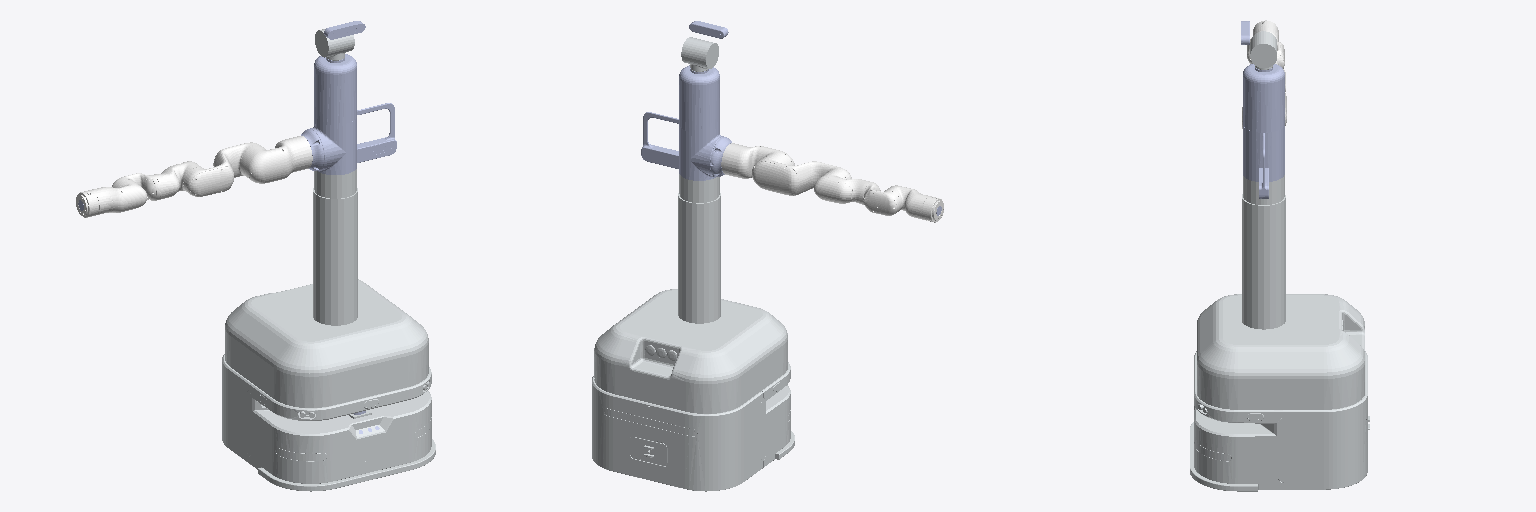
--- Facts derived from the render (not from the file) ---
The picture shows the robot from 3 angles, left to right: view 1: azimuth 30°, elevation 25°; view 2: azimuth 150°, elevation 25°; view 3: azimuth 270°, elevation 25°; orthographic projection.
Robot: JAKA-Lumi-sensors-v3 — 27 links, 26 joints (9 revolute, 10 continuous, 1 prismatic, 6 fixed); root link world; default pose: every joint at zero.
Visible links, largest first — view 1: base_link, link_2, link_a1, link_a2, link_a5, link_1, link_a3, link_3, link_a4; view 2: base_link, link_2, link_a2, link_a1, link_a3, link_3, link_1, link_a4, link_a5; view 3: base_link, link_2, link_3, link_1.
Link boxes in pixels (x1,y1,x2,y2): base_link: (222,188,435,491); link_2: (301,54,396,174); link_a1: (240,136,312,183); link_a2: (183,142,261,196); link_a5: (92,180,147,214); link_1: (314,169,356,198); link_a3: (154,161,201,199); link_3: (315,29,354,60); link_a4: (112,173,160,200); base_link: (592,193,794,491); link_2: (641,65,731,180); link_a2: (752,156,851,195); link_a1: (721,143,794,178); link_a3: (814,170,869,204); link_3: (681,37,718,71); link_1: (679,174,719,202); link_a4: (863,182,900,215); link_a5: (885,185,928,219); base_link: (1190,194,1369,491); link_2: (1243,64,1284,198); link_3: (1250,31,1276,69); link_1: (1243,175,1284,204).
Bounding box of the posed robot: 1.11 × 0.5304 × 1.4 m (x, y, z).
Meshes: 26 distinct files referenced, 22 mesh visuals loaded (22 binary STL); not drawn: 4 (reference not matched to a file when rendering).

URDF robot description (JAKA-Lumi-sensors-v3):
<?xml version="1.0" encoding="utf-8"?>
<!-- This URDF was automatically created by SolidWorks to URDF Exporter! Originally created by Stephen Brawner ([email redacted]) 
     Commit Version: 1.6.0-4-g7f85cfe  Build Version: 1.6.7995.38578
     For more information, please see http://wiki.ros.org/sw_urdf_exporter -->
<robot
  name="JAKA-Lumi-sensors-v3">
  <link name="world" />

  <joint name="world_to_base_joint" type="fixed">
    <parent link="world"/>
    <child link="base_link"/>
    <origin xyz="0 0 0" rpy="0 0 0"/>
  </joint>
  <link
    name="base_link">
    <inertial>
      <origin
        xyz="3.57095658215512E-06 0.0438094594610387 0.0731619735136615"
        rpy="0 0 0" />
      <mass
        value="117.497872021732" />
      <inertia
        ixx="3.00670617451833"
        ixy="-5.23402855344243E-05"
        ixz="0.000153120753143614"
        iyy="3.02761964102687"
        iyz="0.0593585142291048"
        izz="4.01740839133865" />
    </inertial>
    <visual>
      <origin
        xyz="0 0 0"
        rpy="0 0 0" />
      <geometry>
        <mesh
          filename="package://robot_description/meshes/base_link.STL" />
      </geometry>
      <material
        name="">
        <color
          rgba="0.898039215686275 0.917647058823529 0.929411764705882 1" />
      </material>
    </visual>
    <collision>
      <origin
        xyz="0 0 0"
        rpy="0 0 0" />
      <geometry>
        <mesh
          filename="package://robot_description/meshes/base_link.STL" />
      </geometry>
    </collision>
  </link>
  <link
    name="wheel_r">
    <inertial>
      <origin
        xyz="0 -1.38777878078145E-17 -2.77555756156289E-17"
        rpy="0 0 0" />
      <mass
        value="0.941042738950082" />
      <inertia
        ixx="0.00170499901767243"
        ixy="-7.83036536159823E-51"
        ixz="-3.93685896742917E-35"
        iyy="0.00170499901767243"
        iyz="-1.70860751235549E-36"
        izz="0.00311129672944552" />
    </inertial>
    <visual>
      <origin
        xyz="0 0 0"
        rpy="0 0 0" />
      <geometry>
        <mesh
          filename="package://robot_description/meshes/wheel_r.STL" />
      </geometry>
      <material
        name="">
        <color
          rgba="0.792156862745098 0.819607843137255 0.933333333333333 1" />
      </material>
    </visual>
    <collision>
      <origin
        xyz="0 0 0"
        rpy="0 0 0" />
      <geometry>
        <mesh
          filename="package://robot_description/meshes/wheel_r.STL" />
      </geometry>
    </collision>
  </link>
  <joint
    name="w_r"
    type="continuous">
    <origin
      xyz="-0.1793 0.050006 -0.2071"
      rpy="0 1.5708 0" />
    <parent
      link="base_link" />
    <child
      link="wheel_r" />
    <axis
      xyz="0 0 1" />
  </joint>
  <link
    name="wheel_l">
    <inertial>
      <origin
        xyz="5.55111512312578E-17 0 -5.55111512312578E-17"
        rpy="0 0 0" />
      <mass
        value="0.941042738950082" />
      <inertia
        ixx="0.00170499901767243"
        ixy="2.08809742975953E-50"
        ixz="7.9632295469293E-35"
        iyy="0.00170499901767243"
        iyz="-1.70860751235549E-36"
        izz="0.00311129672944551" />
    </inertial>
    <visual>
      <origin
        xyz="0 0 0"
        rpy="0 0 0" />
      <geometry>
        <mesh
          filename="package://robot_description/meshes/wheel_l.STL" />
      </geometry>
      <material
        name="">
        <color
          rgba="0.792156862745098 0.819607843137255 0.933333333333333 1" />
      </material>
    </visual>
    <collision>
      <origin
        xyz="0 0 0"
        rpy="0 0 0" />
      <geometry>
        <mesh
          filename="package://robot_description/meshes/wheel_l.STL" />
      </geometry>
    </collision>
  </link>
  <joint
    name="w_l"
    type="continuous">
    <origin
      xyz="0.1793 0.050006 -0.2071"
      rpy="0 1.5708 0" />
    <parent
      link="base_link" />
    <child
      link="wheel_l" />
    <axis
      xyz="0 0 1" />
  </joint>
  <link
    name="link_1">
    <inertial>
      <origin
        xyz="0 0 -0.151"
        rpy="0 0 0" />
      <mass
        value="14.2347501496821" />
      <inertia
        ixx="0.254522077593032"
        ixy="1.40946576508768E-50"
        ixz="2.26754525837298E-33"
        iyy="0.254522077593032"
        iyz="-3.78389053889462E-34"
        izz="0.0264837526534835" />
    </inertial>
    <visual>
      <origin
        xyz="0 0 0"
        rpy="0 0 0" />
      <geometry>
        <mesh
          filename="package://robot_description/meshes/link_1.STL" />
      </geometry>
      <material
        name="">
        <color
          rgba="0.898039215686275 0.917647058823529 0.929411764705882 1" />
      </material>
    </visual>
    <collision>
      <origin
        xyz="0 0 0"
        rpy="0 0 0" />
      <geometry>
        <mesh
          filename="package://robot_description/meshes/link_1.STL" />
      </geometry>
    </collision>
  </link>
  <joint
    name="l_1"
    type="prismatic">
    <origin
      xyz="0 0 0.565"
      rpy="0 0 0" />
    <parent
      link="base_link" />
    <child
      link="link_1" />
    <axis
      xyz="0 0 1" />
    <limit
      lower="0"
      upper="0.4"
      effort="0"
      velocity="0" />
  </joint>
  <link
    name="link_2">
    <inertial>
      <origin
        xyz="-0.00510085608125199 2.76030308702102E-05 0.154933599644375"
        rpy="0 0 0" />
      <mass
        value="4.72336584565363" />
      <inertia
        ixx="0.0504292282245267"
        ixy="-2.72921337177587E-05"
        ixz="-0.00163934802494906"
        iyy="0.0549230312480384"
        iyz="1.85293969295227E-05"
        izz="0.0134598340945887" />
    </inertial>
    <visual>
      <origin
        xyz="0 0 0"
        rpy="0 0 0" />
      <geometry>
        <mesh
          filename="package://robot_description/meshes/link_2.STL" />
      </geometry>
      <material
        name="">
        <color
          rgba="0.792156862745098 0.819607843137255 0.933333333333333 1" />
      </material>
    </visual>
    <collision>
      <origin
        xyz="0 0 0"
        rpy="0 0 0" />
      <geometry>
        <mesh
          filename="package://robot_description/meshes/link_2.STL" />
      </geometry>
    </collision>
  </link>
  <joint
    name="l_2"
    type="revolute">
    <origin
      xyz="0 0 0.0745"
      rpy="0 0 0" />
    <parent
      link="link_1" />
    <child
      link="link_2" />
    <axis
      xyz="0 0 1" />
    <limit
      lower="-2.7925"
      upper="2.7925"
      effort="0"
      velocity="0" />
  </joint>
  <link
    name="link_3">
    <inertial>
      <origin
        xyz="-0.0025460222142763 1.29838654411296E-08 0.0487080488190528"
        rpy="0 0 0" />
      <mass
        value="1.2679984054123" />
      <inertia
        ixx="0.00113364918039248"
        ixy="-8.90052173790371E-10"
        ixz="1.06284029103091E-05"
        iyy="0.00139294470935827"
        iyz="1.94125318630103E-09"
        izz="0.00124029626232309" />
    </inertial>
    <visual>
      <origin
        xyz="0 0 0"
        rpy="0 0 0" />
      <geometry>
        <mesh
          filename="package://robot_description/meshes/link_3.STL" />
      </geometry>
      <material
        name="">
        <color
          rgba="0.898039215686275 0.917647058823529 0.929411764705882 1" />
      </material>
    </visual>
    <collision>
      <origin
        xyz="0 0 0"
        rpy="0 0 0" />
      <geometry>
        <mesh
          filename="package://robot_description/meshes/link_3.STL" />
      </geometry>
    </collision>
  </link>
  <joint
    name="l_3"
    type="revolute">
    <origin
      xyz="0 0 0.3465"
      rpy="0 0 0" />
    <parent
      link="link_2" />
    <child
      link="link_3" />
    <axis
      xyz="0 0 1" />
    <limit
      lower="-3.1415"
      upper="3.1415"
      effort="0"
      velocity="0" />
  </joint>
  <link
    name="link_4">
    <inertial>
      <origin
        xyz="-0.0356340059910656 0.00952703677544092 0.000354991202713484"
        rpy="0 0 0" />
      <mass
        value="0.508357180113433" />
      <inertia
        ixx="0.00217082376630039"
        ixy="-2.42229896931147E-06"
        ixz="-3.02744570630276E-05"
        iyy="0.00182936367129821"
        iyz="4.21377110079457E-06"
        izz="0.00133450978767258" />
    </inertial>
    <visual>
      <origin
        xyz="0 0 0"
        rpy="0 0 0" />
      <geometry>
        <mesh
          filename="package://robot_description/meshes/link_4.STL" />
      </geometry>
      <material
        name="">
        <color
          rgba="0.792156862745098 0.819607843137255 0.933333333333333 1" />
      </material>
    </visual>
    <collision>
      <origin
        xyz="0 0 0"
        rpy="0 0 0" />
      <geometry>
        <mesh
          filename="package://robot_description/meshes/link_4.STL" />
      </geometry>
    </collision>
  </link>
  <joint
    name="l_4"
    type="revolute">
    <origin
      xyz="0 0 0.052"
      rpy="0 1.5708 0" />
    <parent
      link="link_3" />
    <child
      link="link_4" />
    <axis
      xyz="0 0 1" />
    <limit
      lower="-0.0872"
      upper="0.6108"
      effort="0"
      velocity="0" />
  </joint>
  <link
    name="Camera3_Link">
    <inertial>
      <origin
        xyz="5.68892124458431E-05 -2.63392011503605E-05 0.012942735535695"
        rpy="0 0 0" />
      <mass
        value="0.0875979434243871" />
      <inertia
        ixx="1.06602949918824E-05"
        ixy="-8.54998727243587E-08"
        ixz="-5.78556215603225E-08"
        iyy="0.00010643284507406"
        iyz="9.93797837095681E-09"
        izz="0.000107381008142404" />
    </inertial>
    <visual>
      <origin
        xyz="0 0 0"
        rpy="0 0 0" />
      <geometry>
        <mesh
          filename="package://robot_description/meshes/Camera3_Link.STL" />
      </geometry>
      <material
        name="">
        <color
          rgba="0.792156862745098 0.819607843137255 0.933333333333333 1" />
      </material>
    </visual>
    <collision>
      <origin
        xyz="0 0 0"
        rpy="0 0 0" />
      <geometry>
        <mesh
          filename="package://robot_description/meshes/Camera3_Link.STL" />
      </geometry>
    </collision>
  </link>
  <joint
    name="cm3_l"
    type="fixed">
    <origin
      xyz="-0.0552 -0.0665 -0.001"
      rpy="-1.5708 -1.5708 0" />
    <parent
      link="link_4" />
    <child
      link="Camera3_Link" />
    <axis
      xyz="0 0 0" />
  </joint>
  <link
    name="link_a1">
    <inertial>
      <origin
        xyz="-1.9998511011643E-06 0.0134079971471797 0.0943686061195934"
        rpy="0 0 0" />
      <mass
        value="1.35363412771609" />
      <inertia
        ixx="0.00550421009964208"
        ixy="9.79122039100754E-08"
        ixz="2.49435588815162E-08"
        iyy="0.00543503119641918"
        iyz="-0.000690462717635347"
        izz="0.00167462250691422" />
    </inertial>
    <visual>
      <origin
        xyz="0 0 0"
        rpy="0 0 0" />
      <geometry>
        <mesh
          filename="package://robot_description/meshes/link_a1.STL" />
      </geometry>
      <material
        name="">
        <color
          rgba="1 1 1 1" />
      </material>
    </visual>
    <collision>
      <origin
        xyz="0 0 0"
        rpy="0 0 0" />
      <geometry>
        <mesh
          filename="package://robot_description/meshes/link_a1.STL" />
      </geometry>
    </collision>
  </link>
  <joint
    name="l_a1"
    type="revolute">
    <origin
      xyz="-0.104 0 0.069"
      rpy="3.1416 1.5708 0" />
    <parent
      link="link_2" />
    <child
      link="link_a1" />
    <axis
      xyz="0 0 1" />
    <limit
      lower="-6.2831"
      upper="6.2831"
      effort="0"
      velocity="0" />
  </joint>
  <link
    name="link_a2">
    <inertial>
      <origin
        xyz="0.090605416923298 -2.58600093649974E-06 -0.00609952306741931"
        rpy="0 0 0" />
      <mass
        value="1.13725613291731" />
      <inertia
        ixx="0.00215009827923876"
        ixy="8.33869649445781E-07"
        ixz="0.00254380393250188"
        iyy="0.00820239963405526"
        iyz="-4.4243055112101E-07"
        izz="0.00725300805967666" />
    </inertial>
    <visual>
      <origin
        xyz="0 0 0"
        rpy="0 0 0" />
      <geometry>
        <mesh
          filename="package://robot_description/meshes/link_a2.STL" />
      </geometry>
      <material
        name="">
        <color
          rgba="1 1 1 1" />
      </material>
    </visual>
    <collision>
      <origin
        xyz="0 0 0"
        rpy="0 0 0" />
      <geometry>
        <mesh
          filename="package://robot_description/meshes/link_a2.STL" />
      </geometry>
    </collision>
  </link>
  <joint
    name="l_a2"
    type="revolute">
    <origin
      xyz="0 -0.0165 0.156"
      rpy="1.57079632679489 -1.5707963267949 0" />
    <parent
      link="link_a1" />
    <child
      link="link_a2" />
    <axis
      xyz="0 0 1" />
    <limit
      lower="-2.1816"
      upper="2.1816"
      effort="0"
      velocity="0" />
  </joint>
  <link
    name="link_a3">
    <inertial>
      <origin
        xyz="0.0420860444220137 2.83552794133612E-07 0.0309278894752134"
        rpy="0 0 0" />
      <mass
        value="0.81274798684902" />
      <inertia
        ixx="0.000704665343337443"
        ixy="-8.97697298056851E-09"
        ixz="0.000222641185973676"
        iyy="0.00221943524795946"
        iyz="1.40081838032314E-08"
        izz="0.00212284072119055" />
    </inertial>
    <visual>
      <origin
        xyz="0 0 0"
        rpy="0 0 0" />
      <geometry>
        <mesh
          filename="package://robot_description/meshes/link_a3.STL" />
      </geometry>
      <material
        name="">
        <color
          rgba="1 1 1 1" />
      </material>
    </visual>
    <collision>
      <origin
        xyz="0 0 0"
        rpy="0 0 0" />
      <geometry>
        <mesh
          filename="package://robot_description/meshes/link_a3.STL" />
      </geometry>
    </collision>
  </link>
  <joint
    name="l_a3"
    type="revolute">
    <origin
      xyz="0.21 0 -0.029"
      rpy="0 0 0" />
    <parent
      link="link_a2" />
    <child
      link="link_a3" />
    <axis
      xyz="0 0 1" />
    <limit
      lower="-2.2689"
      upper="2.2689"
      effort="0"
      velocity="0" />
  </joint>
  <link
    name="link_a4">
    <inertial>
      <origin
        xyz="5.25973461562579E-06 -0.0259459115704968 0.0452714391339665"
        rpy="0 0 0" />
      <mass
        value="0.308941204464269" />
      <inertia
        ixx="0.000485737318642283"
        ixy="1.50755095959191E-08"
        ixz="2.19693443133857E-08"
        iyy="0.000466355171348267"
        iyz="0.000110728922271964"
        izz="0.000234923681068276" />
    </inertial>
    <visual>
      <origin
        xyz="0 0 0"
        rpy="0 0 0" />
      <geometry>
        <mesh
          filename="package://robot_description/meshes/link_a4.STL" />
      </geometry>
      <material
        name="">
        <color
          rgba="1 1 1 1" />
      </material>
    </visual>
    <collision>
      <origin
        xyz="0 0 0"
        rpy="0 0 0" />
      <geometry>
        <mesh
          filename="package://robot_description/meshes/link_a4.STL" />
      </geometry>
    </collision>
  </link>
  <joint
    name="l_a4"
    type="revolute">
    <origin
      xyz="0.1303 0 0.0185"
      rpy="-1.5708 0 -1.5708" />
    <parent
      link="link_a3" />
    <child
      link="link_a4" />
    <axis
      xyz="0 0 1" />
    <limit
      lower="-6.2831"
      upper="6.2831"
      effort="0"
      velocity="0" />
  </joint>
  <link
    name="link_a5">
    <inertial>
      <origin
        xyz="-0.0445527751967654 8.72515785954597E-06 0.0283178074848019"
        rpy="0 0 0" />
      <mass
        value="0.691485853906912" />
      <inertia
        ixx="0.00053587217476237"
        ixy="-1.66785104800889E-07"
        ixz="-0.000165180730911934"
        iyy="0.00167662010209616"
        iyz="4.52790643374491E-08"
        izz="0.00160760235435603" />
    </inertial>
    <visual>
      <origin
        xyz="0 0 0"
        rpy="0 0 0" />
      <geometry>
        <mesh
          filename="package://robot_description/meshes/link_a5.STL" />
      </geometry>
      <material
        name="">
        <color
          rgba="1 1 1 1" />
      </material>
    </visual>
    <collision>
      <origin
        xyz="0 0 0"
        rpy="0 0 0" />
      <geometry>
        <mesh
          filename="package://robot_description/meshes/link_a5.STL" />
      </geometry>
    </collision>
  </link>
  <joint
    name="l_a5"
    type="revolute">
    <origin
      xyz="0 -0.01805 0.0802"
      rpy="-1.5708 1.5708 0" />
    <parent
      link="link_a4" />
    <child
      link="link_a5" />
    <axis
      xyz="0 0 1" />
    <limit
      lower="-2.0943"
      upper="2.0943"
      effort="0"
      velocity="0" />
  </joint>
  <link
    name="link_a6">
    <inertial>
      <origin
        xyz="3.24059162115642E-05 -2.59128758312438E-05 0.0157071301866493"
        rpy="0 0 0" />
      <mass
        value="0.147762214293587" />
      <inertia
        ixx="6.82806654260406E-05"
        ixy="-1.88579213356883E-07"
        ixz="1.03022750296876E-07"
        iyy="6.73993556738908E-05"
        iyz="4.77520867533898E-08"
        izz="0.000105059848809307" />
    </inertial>
    <visual>
      <origin
        xyz="0 0 0"
        rpy="0 0 0" />
      <geometry>
        <mesh
          filename="package://robot_description/meshes/link_a6.STL" />
      </geometry>
      <material
        name="">
        <color
          rgba="1 1 1 1" />
      </material>
    </visual>
    <collision>
      <origin
        xyz="0 0 0"
        rpy="0 0 0" />
      <geometry>
        <mesh
          filename="package://robot_description/meshes/link_a6.STL" />
      </geometry>
    </collision>
  </link>
  <joint
    name="l_a6"
    type="revolute">
    <origin
      xyz="-0.1233 0 0.01805"
      rpy="1.5708 0 -1.5708" />
    <parent
      link="link_a5" />
    <child
      link="link_a6" />
    <axis
      xyz="0 0 1" />
    <limit
      lower="-6.2831"
      upper="6.2831"
      effort="0"
      velocity="0" />
  </joint>
  <link
    name="link_at">
    <inertial>
      <origin
        xyz="0 -6.93889390390723E-18 -0.001"
        rpy="0 0 0" />
      <mass
        value="0.00155862265526224" />
      <inertia
        ixx="9.71784989903346E-08"
        ixy="-1.09121277893181E-40"
        ixz="-2.82308475359693E-24"
        iyy="9.71784989903346E-08"
        iyz="2.4437407093716E-25"
        izz="1.93317916210494E-07" />
    </inertial>
    <visual>
      <origin
        xyz="0 0 0"
        rpy="0 0 0" />
      <geometry>
        <mesh
          filename="package://robot_description/meshes/link_at.STL" />
      </geometry>
      <material
        name="">
        <color
          rgba="0.792156862745098 0.819607843137255 0.933333333333333 1" />
      </material>
    </visual>
    <collision>
      <origin
        xyz="0 0 0"
        rpy="0 0 0" />
      <geometry>
        <mesh
          filename="package://robot_description/meshes/link_at.STL" />
      </geometry>
    </collision>
  </link>
  <joint
    name="l_at"
    type="fixed">
    <origin
      xyz="0 0 0.0359999999999999"
      rpy="0 0 0" />
    <parent
      link="link_a6" />
    <child
      link="link_at" />
    <axis
      xyz="0 0 0" />
  </joint>
  <link
    name="Camera2_Link">
    <inertial>
      <origin
        xyz="-0.000143110787554801 -0.013057264464305 2.63392011492503E-05"
        rpy="0 0 0" />
      <mass
        value="0.0875979434243874" />
      <inertia
        ixx="1.06602949918825E-05"
        ixy="-5.78556215601044E-08"
        ixz="8.54998727241383E-08"
        iyy="0.000107381008142404"
        iyz="-9.9379783709596E-09"
        izz="0.00010643284507406" />
    </inertial>
    <visual>
      <origin
        xyz="0 0 0"
        rpy="0 0 0" />
      <geometry>
        <mesh
          filename="package://robot_description/meshes/Camera2_Link.STL" />
      </geometry>
      <material
        name="">
        <color
          rgba="0.792156862745098 0.819607843137255 0.933333333333333 1" />
      </material>
    </visual>
    <collision>
      <origin
        xyz="0 0 0"
        rpy="0 0 0" />
      <geometry>
        <mesh
          filename="package://robot_description/meshes/Camera2_Link.STL" />
      </geometry>
    </collision>
  </link>
  <joint
    name="cm2_l"
    type="fixed">
    <origin
      xyz="0.1257 0.011 0.0287"
      rpy="0 0 0" />
    <parent
      link="link_2" />
    <child
      link="Camera2_Link" />
    <axis
      xyz="0 0 0" />
  </joint>
  <link
    name="Radar_Link">
    <inertial>
      <origin
        xyz="0 0 0.0184787735849057"
        rpy="0 0 0" />
      <mass
        value="0.0693768377667744" />
      <inertia
        ixx="1.85319292807384E-05"
        ixy="-5.83702121930894E-25"
        ixz="1.92987550216075E-21"
        iyy="1.85319292807384E-05"
        iyz="4.02294525350527E-25"
        izz="1.95171443604265E-05" />
    </inertial>
    <visual>
      <origin
        xyz="0 0 0"
        rpy="0 0 0" />
      <geometry>
        <mesh
          filename="package://robot_description/meshes/Radar_Link.STL" />
      </geometry>
      <material
        name="">
        <color
          rgba="0.792156862745098 0.819607843137255 0.933333333333333 1" />
      </material>
    </visual>
    <collision>
      <origin
        xyz="0 0 0"
        rpy="0 0 0" />
      <geometry>
        <mesh
          filename="package://robot_description/meshes/Radar_Link.STL" />
      </geometry>
    </collision>
  </link>
  <joint
    name="radar_l"
    type="fixed">
    <origin
      xyz="0 -0.126 -0.085"
      rpy="0 0 0" />
    <parent
      link="base_link" />
    <child
      link="Radar_Link" />
    <axis
      xyz="0 0 0" />
  </joint>
  <link
    name="Camera1_Link">
    <inertial>
      <origin
        xyz="0.00233337804349315 -9.79771819231701E-15 -0.0070004023915114"
        rpy="0 0 0" />
      <mass
        value="0.0115484510006475" />
      <inertia
        ixx="3.5863073748889E-07"
        ixy="-4.49986253228847E-22"
        ixz="1.15461272938505E-08"
        iyy="4.75824187174715E-06"
        iyz="6.35274710440725E-22"
        izz="4.74543151710746E-06" />
    </inertial>
    <visual>
      <origin
        xyz="0 0 0"
        rpy="0 0 0" />
      <geometry>
        <mesh
          filename="package://robot_description/meshes/Camera1_Link.STL" />
      </geometry>
      <material
        name="">
        <color
          rgba="0.792156862745098 0.819607843137255 0.933333333333333 1" />
      </material>
    </visual>
    <collision>
      <origin
        xyz="0 0 0"
        rpy="0 0 0" />
      <geometry>
        <mesh
          filename="package://robot_description/meshes/Camera1_Link.STL" />
      </geometry>
    </collision>
  </link>
  <joint
    name="cm1_l"
    type="fixed">
    <origin
      xyz="0.0029992 -0.19083 -0.12002"
      rpy="-0.66323 0 3.1416" />
    <parent
      link="base_link" />
    <child
      link="Camera1_Link" />
    <axis
      xyz="0 0 0" />
  </joint>
  <link
    name="pw1_Link1">
    <inertial>
      <origin
        xyz="1.8964053383197E-09 -1.39882894156784E-09 0.0424268830920688"
        rpy="0 0 0" />
      <mass
        value="0.0328598949214225" />
      <inertia
        ixx="1.66641395892168E-05"
        ixy="2.62544768904264E-07"
        ixz="4.06684164776544E-13"
        iyy="1.49942324509333E-05"
        iyz="-2.82596433297499E-13"
        izz="3.75003558239013E-06" />
    </inertial>
    <visual>
      <origin
        xyz="0 0 0"
        rpy="0 0 0" />
      <geometry>
        <mesh
          filename="package://robot_description/meshes/pw1_Link1.STL" />
      </geometry>
      <material
        name="">
        <color
          rgba="0.792156862745098 0.819607843137255 0.933333333333333 1" />
      </material>
    </visual>
    <collision>
      <origin
        xyz="0 0 0"
        rpy="0 0 0" />
      <geometry>
        <mesh
          filename="package://robot_description/meshes/pw1_Link1.STL" />
      </geometry>
    </collision>
  </link>
  <joint
    name="pw1_1"
    type="continuous">
    <origin
      xyz="-0.1625 0.2125 -0.1964"
      rpy="3.1416 0 0" />
    <parent
      link="base_link" />
    <child
      link="pw1_Link1" />
    <axis
      xyz="0 0 1" />
  </joint>
  <link
    name="pw1_Link2">
    <inertial>
      <origin
        xyz="-5.55111512312578E-17 1.11022302462516E-16 -1.38777878078145E-17"
        rpy="0 0 0" />
      <mass
        value="0.227276040857673" />
      <inertia
        ixx="0.00012938374626319"
        ixy="-5.97733185760256E-21"
        ixz="1.41941779328965E-21"
        iyy="0.00012938374626319"
        iyz="-1.6940658945086E-21"
        izz="0.000158274748324804" />
    </inertial>
    <visual>
      <origin
        xyz="0 0 0"
        rpy="0 0 0" />
      <geometry>
        <mesh
          filename="package://robot_description/meshes/pw1_Link2.STL" />
      </geometry>
      <material
        name="">
        <color
          rgba="0.792156862745098 0.819607843137255 0.933333333333333 1" />
      </material>
    </visual>
    <collision>
      <origin
        xyz="0 0 0"
        rpy="0 0 0" />
      <geometry>
        <mesh
          filename="package://robot_description/meshes/pw1_Link2.STL" />
      </geometry>
    </collision>
  </link>
  <joint
    name="pw1_2"
    type="continuous">
    <origin
      xyz="0 0 0.0552"
      rpy="0.15233 -1.5708 0" />
    <parent
      link="pw1_Link1" />
    <child
      link="pw1_Link2" />
    <axis
      xyz="0 0 1" />
  </joint>
  <link
    name="pw2_Link1">
    <inertial>
      <origin
        xyz="-8.95573559756002E-10 2.17968404436775E-09 0.0424268830920688"
        rpy="0 0 0" />
      <mass
        value="0.0328598949214225" />
      <inertia
        ixx="1.64475986017118E-05"
        ixy="-6.19389293719969E-07"
        ixz="-2.01073404590596E-13"
        iyy="1.52107734384383E-05"
        iyz="4.52572921378609E-13"
        izz="3.75003558239014E-06" />
    </inertial>
    <visual>
      <origin
        xyz="0 0 0"
        rpy="0 0 0" />
      <geometry>
        <mesh
          filename="package://robot_description/meshes/pw2_Link1.STL" />
      </geometry>
      <material
        name="">
        <color
          rgba="0.792156862745098 0.819607843137255 0.933333333333333 1" />
      </material>
    </visual>
    <collision>
      <origin
        xyz="0 0 0"
        rpy="0 0 0" />
      <geometry>
        <mesh
          filename="package://robot_description/meshes/pw2_Link1.STL" />
      </geometry>
    </collision>
  </link>
  <joint
    name="pw2_1"
    type="continuous">
    <origin
      xyz="0.1625 0.2125 -0.1964"
      rpy="3.1416 0 0" />
    <parent
      link="base_link" />
    <child
      link="pw2_Link1" />
    <axis
      xyz="0 0 1" />
  </joint>
  <link
    name="pw2_Link2">
    <inertial>
      <origin
        xyz="5.55111512312578E-17 -5.27355936696949E-16 0"
        rpy="0 0 0" />
      <mass
        value="0.227276040857673" />
      <inertia
        ixx="0.000129383746263189"
        ixy="-2.13087103829017E-21"
        ixz="-1.71951315608427E-20"
        iyy="0.000129383746263189"
        iyz="-6.7762635780344E-21"
        izz="0.000158274748324804" />
    </inertial>
    <visual>
      <origin
        xyz="0 0 0"
        rpy="0 0 0" />
      <geometry>
        <mesh
          filename="package://robot_description/meshes/pw2_Link2.STL" />
      </geometry>
      <material
        name="">
        <color
          rgba="0.792156862745098 0.819607843137255 0.933333333333333 1" />
      </material>
    </visual>
    <collision>
      <origin
        xyz="0 0 0"
        rpy="0 0 0" />
      <geometry>
        <mesh
          filename="package://robot_description/meshes/pw2_Link2.STL" />
      </geometry>
    </collision>
  </link>
  <joint
    name="pw2_2"
    type="continuous">
    <origin
      xyz="0 0 0.0552"
      rpy="2.7485 1.5708 0" />
    <parent
      link="pw2_Link1" />
    <child
      link="pw2_Link2" />
    <axis
      xyz="0 0 1" />
  </joint>
  <link
    name="pw3_Link1">
    <inertial>
      <origin
        xyz="-8.95573670778305E-10 2.17968410681779E-09 0.0424268830920688"
        rpy="0 0 0" />
      <mass
        value="0.0328598949214225" />
      <inertia
        ixx="1.64475986017118E-05"
        ixy="-6.19389293719968E-07"
        ixz="-2.01073407995355E-13"
        iyy="1.52107734384383E-05"
        iyz="4.52572912857131E-13"
        izz="3.75003558239014E-06" />
    </inertial>
    <visual>
      <origin
        xyz="0 0 0"
        rpy="0 0 0" />
      <geometry>
        <mesh
          filename="package://robot_description/meshes/pw3_Link1.STL" />
      </geometry>
      <material
        name="">
        <color
          rgba="0.792156862745098 0.819607843137255 0.933333333333333 1" />
      </material>
    </visual>
    <collision>
      <origin
        xyz="0 0 0"
        rpy="0 0 0" />
      <geometry>
        <mesh
          filename="package://robot_description/meshes/pw3_Link1.STL" />
      </geometry>
    </collision>
  </link>
  <joint
    name="pw3_1"
    type="continuous">
    <origin
      xyz="-0.1625 -0.1125 -0.1964"
      rpy="3.1416 0 0" />
    <parent
      link="base_link" />
    <child
      link="pw3_Link1" />
    <axis
      xyz="0 0 1" />
  </joint>
  <link
    name="pw3_Link2">
    <inertial>
      <origin
        xyz="-5.55111512312578E-17 5.55111512312578E-17 5.55111512312578E-17"
        rpy="0 0 0" />
      <mass
        value="0.227276040857673" />
      <inertia
        ixx="0.00012938374626319"
        ixy="-3.0448656413053E-21"
        ixz="1.37324426331394E-21"
        iyy="0.00012938374626319"
        iyz="0"
        izz="0.000158274748324804" />
    </inertial>
    <visual>
      <origin
        xyz="0 0 0"
        rpy="0 0 0" />
      <geometry>
        <mesh
          filename="package://robot_description/meshes/pw3_Link2.STL" />
      </geometry>
      <material
        name="">
        <color
          rgba="0.792156862745098 0.819607843137255 0.933333333333333 1" />
      </material>
    </visual>
    <collision>
      <origin
        xyz="0 0 0"
        rpy="0 0 0" />
      <geometry>
        <mesh
          filename="package://robot_description/meshes/pw3_Link2.STL" />
      </geometry>
    </collision>
  </link>
  <joint
    name="pw3_2"
    type="continuous">
    <origin
      xyz="0 0 0.0552"
      rpy="2.7485 1.5708 0" />
    <parent
      link="pw3_Link1" />
    <child
      link="pw3_Link2" />
    <axis
      xyz="0 0 1" />
  </joint>
  <link
    name="pw4_Link1">
    <inertial>
      <origin
        xyz="-8.95573726289456E-10 2.17968409294E-09 0.0424268830920689"
        rpy="0 0 0" />
      <mass
        value="0.0328598949214226" />
      <inertia
        ixx="1.64475986017118E-05"
        ixy="-6.19389293719969E-07"
        ixz="-2.01073406532492E-13"
        iyy="1.52107734384383E-05"
        iyz="4.52572915702944E-13"
        izz="3.75003558239015E-06" />
    </inertial>
    <visual>
      <origin
        xyz="0 0 0"
        rpy="0 0 0" />
      <geometry>
        <mesh
          filename="package://robot_description/meshes/pw4_Link1.STL" />
      </geometry>
      <material
        name="">
        <color
          rgba="0.792156862745098 0.819607843137255 0.933333333333333 1" />
      </material>
    </visual>
    <collision>
      <origin
        xyz="0 0 0"
        rpy="0 0 0" />
      <geometry>
        <mesh
          filename="package://robot_description/meshes/pw4_Link1.STL" />
      </geometry>
    </collision>
  </link>
  <joint
    name="pw4_1"
    type="continuous">
    <origin
      xyz="0.1625 -0.1125 -0.1964"
      rpy="3.1416 0 0" />
    <parent
      link="base_link" />
    <child
      link="pw4_Link1" />
    <axis
      xyz="0 0 1" />
  </joint>
  <link
    name="pw4_Link2">
    <inertial>
      <origin
        xyz="0 2.77555756156289E-17 1.66533453693773E-16"
        rpy="0 0 0" />
      <mass
        value="0.227276040857673" />
      <inertia
        ixx="0.00012938374626319"
        ixy="-1.72359010019817E-21"
        ixz="1.83362964261698E-22"
        iyy="0.00012938374626319"
        iyz="-1.01643953670516E-20"
        izz="0.000158274748324804" />
    </inertial>
    <visual>
      <origin
        xyz="0 0 0"
        rpy="0 0 0" />
      <geometry>
        <mesh
          filename="package://robot_description/meshes/pw4_Link2.STL" />
      </geometry>
      <material
        name="">
        <color
          rgba="0.792156862745098 0.819607843137255 0.933333333333333 1" />
      </material>
    </visual>
    <collision>
      <origin
        xyz="0 0 0"
        rpy="0 0 0" />
      <geometry>
        <mesh
          filename="package://robot_description/meshes/pw4_Link2.STL" />
      </geometry>
    </collision>
  </link>
  <joint
    name="pw4_2"
    type="continuous">
    <origin
      xyz="0 0 0.0552"
      rpy="2.7485 1.5708 0" />
    <parent
      link="pw4_Link1" />
    <child
      link="pw4_Link2" />
    <axis
      xyz="0 0 1" />
  </joint>
</robot>
